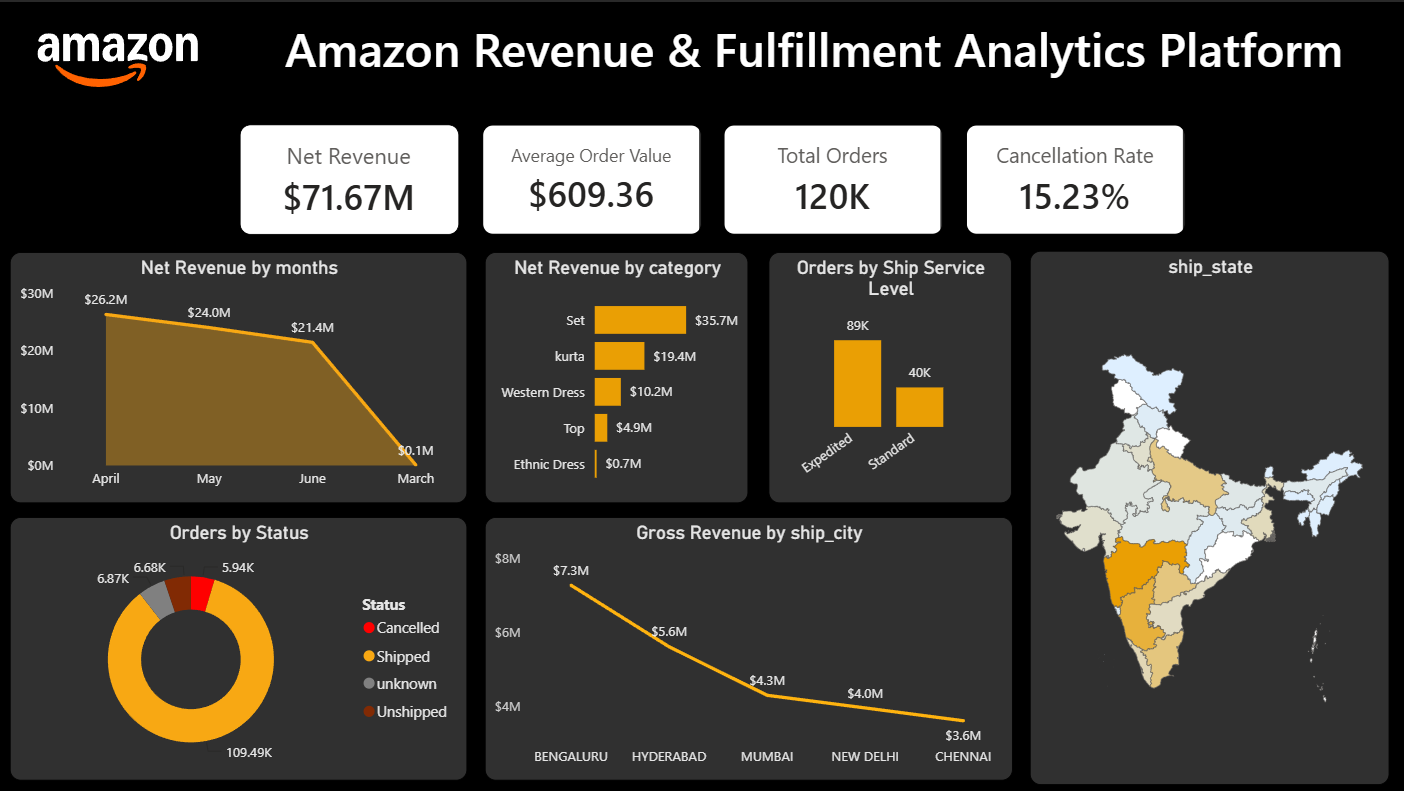

Layout of this report page (visuals, bound fields, positions):
{"tool":"powerbi","page":{"name":"Page 1","canvas":[1280,720],"ordinal":0},"visuals":[{"type":"clusteredBarChart","fields":{"Category":["amazon_sales amazon_sales_report.category"],"Y":["Sum(amazon_sales amazon_sales_report.net_revenue)"]},"box":[443,226.7,239.5,227.9],"z":0},{"type":"areaChart","fields":{"Category":["amazon_sales amazon_sales_report.months"],"Y":["Sum(amazon_sales amazon_sales_report.net_revenue)"]},"box":[12.8,226.7,415.1,227.9],"z":1000},{"type":"columnChart","fields":{"Category":["amazon_sales amazon_sales_report.ship_service_level"],"Y":["CountNonNull(amazon_sales amazon_sales_report.order_id)"]},"box":[701.2,226.7,220.9,227.9],"z":2000},{"type":"donutChart","fields":{"Y":["CountNonNull(amazon_sales amazon_sales_report.order_id)"],"Series":["amazon_sales amazon_sales_report.courier_status"]},"box":[12.8,467.4,415.1,239.5],"z":3000},{"type":"kpi","title":"Average Order Value","fields":{"Indicator":["Avg(amazon_sales amazon_sales_report.amount)"],"TrendLine":["amazon_sales amazon_sales_report.months"]},"box":[440.7,111.6,198.8,100],"z":3001},{"type":"kpi","title":"Cancellation Rate","fields":{"Indicator":["amazon_sales amazon_sales_report.Cancellation Rate"],"TrendLine":["amazon_sales amazon_sales_report.months"]},"box":[880.2,111.6,198.8,100],"z":3002},{"type":"kpi","title":"Total Orders","fields":{"TrendLine":["amazon_sales amazon_sales_report.months"],"Indicator":["amazon_sales amazon_sales_report.Total Orders"]},"box":[660.5,111.6,198.8,100],"z":3003},{"type":"kpi","title":"Net Revenue","fields":{"TrendLine":["amazon_sales amazon_sales_report.months"],"Indicator":["amazon_sales amazon_sales_report.Net Revenue"]},"box":[220.9,111.6,198.8,100],"z":3004},{"type":"shapeMap","fields":{"Category":["amazon_sales amazon_sales_report.ship_state"]},"box":[938.4,225.6,326.7,484.9],"z":3005},{"type":"lineChart","fields":{"Category":["amazon_sales amazon_sales_report.ship_city"],"Y":["amazon_sales amazon_sales_report.Gross Revenue"]},"box":[443,467.4,479.1,239.5],"z":3006},{"type":"listSlicer","fields":{"Values":["amazon_sales amazon_sales_report.category"]},"box":[1138.4,8.1,126.7,68.6],"z":3007},{"type":"listSlicer","fields":{"Values":["amazon_sales amazon_sales_report.months"]},"box":[1012.8,8.1,125.6,68.6],"z":3008},{"type":"listSlicer","fields":{"Values":["amazon_sales amazon_sales_report.fulfillment"]},"box":[880.2,8.1,132.6,68.6],"z":3009},{"type":"image","box":[0,27.9,220.9,48.8],"z":3010},{"type":"textbox","box":[220.9,8.1,638.4,68.6],"z":3011}]}

Visuals, with their boxes in screenshot pixels (x1, y1, x2, y2), scaled from the page's 1280x720 canvas onto the 1404x791 screenshot:
clusteredBarChart - amazon_sales amazon_sales_report.category x Sum(amazon_sales amazon_sales_report.net_revenue): (left=486, top=249, right=749, bottom=499)
areaChart - amazon_sales amazon_sales_report.months x Sum(amazon_sales amazon_sales_report.net_revenue): (left=14, top=249, right=469, bottom=499)
columnChart - amazon_sales amazon_sales_report.ship_service_level x CountNonNull(amazon_sales amazon_sales_report.order_id): (left=769, top=249, right=1011, bottom=499)
donutChart - CountNonNull(amazon_sales amazon_sales_report.order_id) x amazon_sales amazon_sales_report.courier_status: (left=14, top=513, right=469, bottom=777)
"Average Order Value" kpi: (left=483, top=123, right=701, bottom=232)
"Cancellation Rate" kpi: (left=965, top=123, right=1184, bottom=232)
"Total Orders" kpi: (left=724, top=123, right=943, bottom=232)
"Net Revenue" kpi: (left=242, top=123, right=460, bottom=232)
shapeMap - amazon_sales amazon_sales_report.ship_state: (left=1029, top=248, right=1388, bottom=781)
lineChart - amazon_sales amazon_sales_report.ship_city x amazon_sales amazon_sales_report.Gross Revenue: (left=486, top=513, right=1011, bottom=777)
listSlicer - amazon_sales amazon_sales_report.category: (left=1249, top=9, right=1388, bottom=84)
listSlicer - amazon_sales amazon_sales_report.months: (left=1111, top=9, right=1249, bottom=84)
listSlicer - amazon_sales amazon_sales_report.fulfillment: (left=965, top=9, right=1111, bottom=84)
image: (left=0, top=31, right=242, bottom=84)
textbox: (left=242, top=9, right=943, bottom=84)
